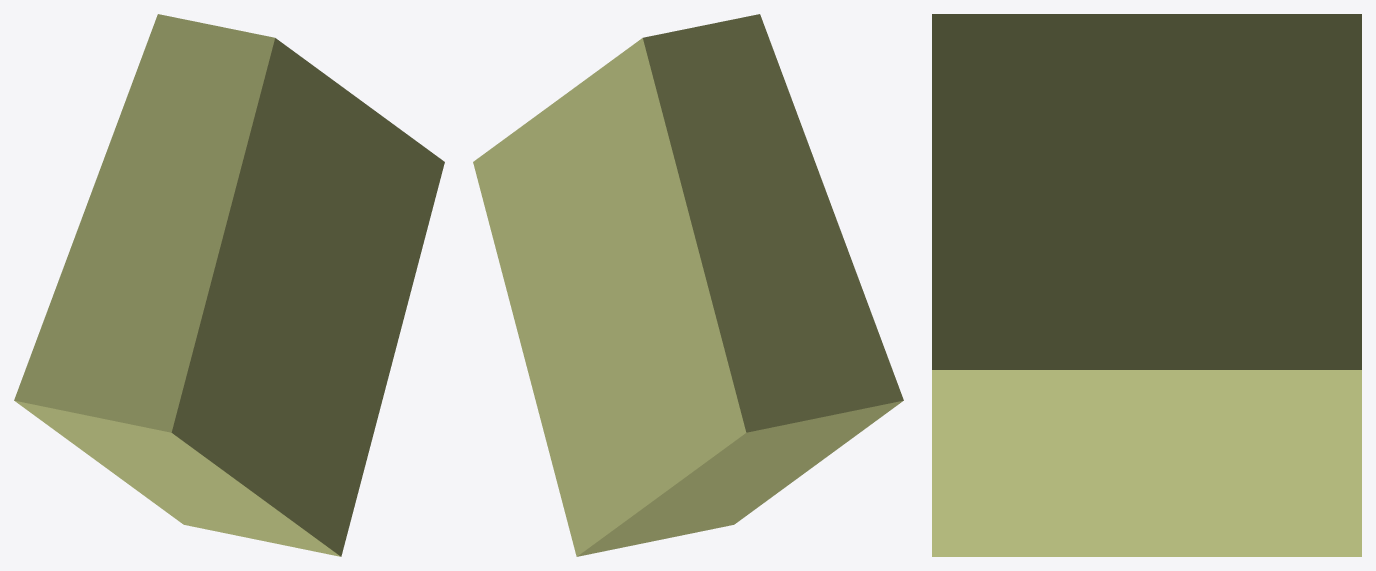
The picture shows the model from 3 angles, left to right: view 1: azimuth 30°, elevation 25°; view 2: azimuth 150°, elevation 25°; view 3: azimuth 270°, elevation 25°; orthographic projection. The views are drawn at different scales.
Parts seen in each view (by area): view 1: 0_1_0_2_1_3_0_2_0_1; view 2: 0_1_0_2_1_3_0_2_0_1; view 3: 0_1_0_2_1_3_0_2_0_1.
Boxes of the visible parts, left/top/right/bottom form: 0_1_0_2_1_3_0_2_0_1: left=14, top=14, right=444, bottom=556; 0_1_0_2_1_3_0_2_0_1: left=473, top=14, right=903, bottom=556; 0_1_0_2_1_3_0_2_0_1: left=932, top=14, right=1361, bottom=556.
Size of the model in its own units: 8 by 12.35 by 9.
